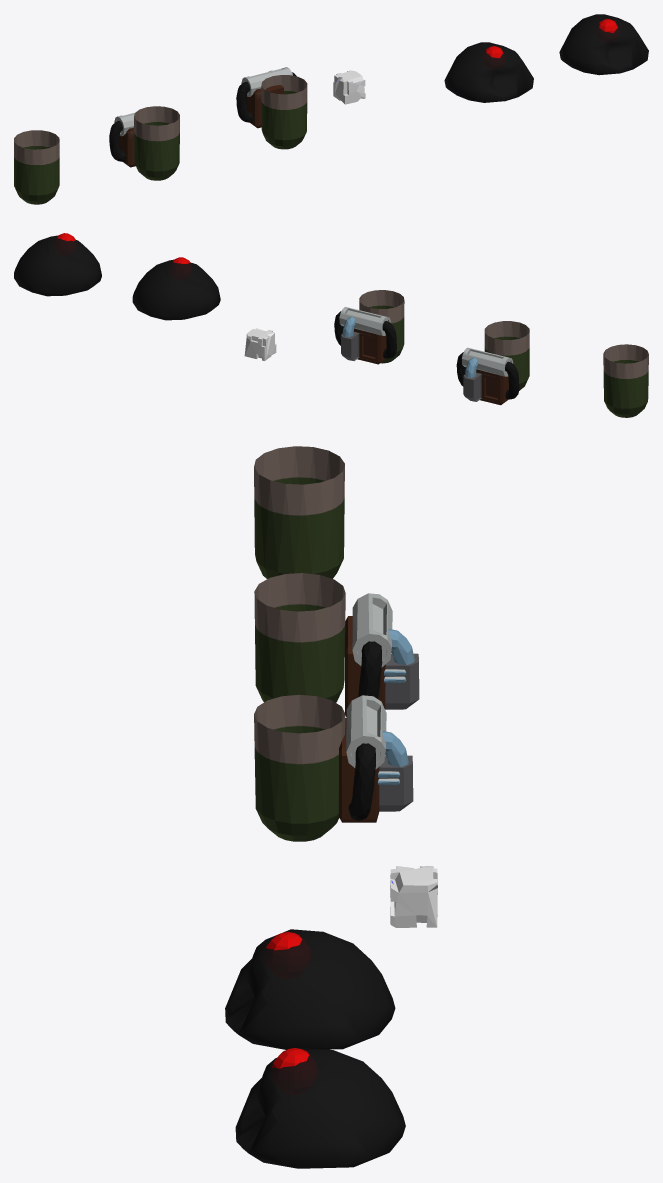
File: CharacterFinal_1.fbx
3 renders of one model, top to bottom at view 1: azimuth 30°, elevation 25°; view 2: azimuth 150°, elevation 25°; view 3: azimuth 270°, elevation 25°, orthographic. The views are drawn at different scales.
Visible parts, largest first — view 1: Monster Walk, Monster Attack, BODY.002, BODY, BODY.001, Backpack.001, Backpack.002, Relic; view 2: Monster Walk, Monster Attack, BODY, Backpack.002, Backpack.001, BODY.002, BODY.001, Relic; view 3: Monster Attack, Monster Walk, BODY.001, BODY, BODY.002, Backpack.001, Backpack.002, Relic.
Boxes of the visible parts, x1,y1,x2,y2 form: Monster Walk: (444, 42, 533, 102); Monster Attack: (559, 14, 648, 75); BODY.002: (134, 106, 179, 180); BODY: (14, 130, 59, 204); BODY.001: (261, 75, 307, 149); Backpack.001: (236, 67, 296, 128); Backpack.002: (109, 112, 135, 167); Relic: (333, 70, 365, 104); Monster Walk: (132, 259, 220, 320); Monster Attack: (14, 235, 101, 296); BODY: (603, 344, 648, 417); Backpack.002: (456, 347, 519, 405); Backpack.001: (334, 307, 396, 364); BODY.002: (484, 321, 529, 390); BODY.001: (359, 290, 404, 363); Relic: (244, 328, 276, 360); Monster Attack: (235, 1047, 405, 1168); Monster Walk: (225, 929, 395, 1049); BODY.001: (254, 694, 345, 841); BODY: (254, 446, 344, 578); BODY.002: (254, 573, 345, 702); Backpack.001: (339, 695, 413, 822); Backpack.002: (345, 593, 419, 717); Relic: (390, 866, 437, 927).
Size of the model in its own units: 1256 by 130 by 186.
